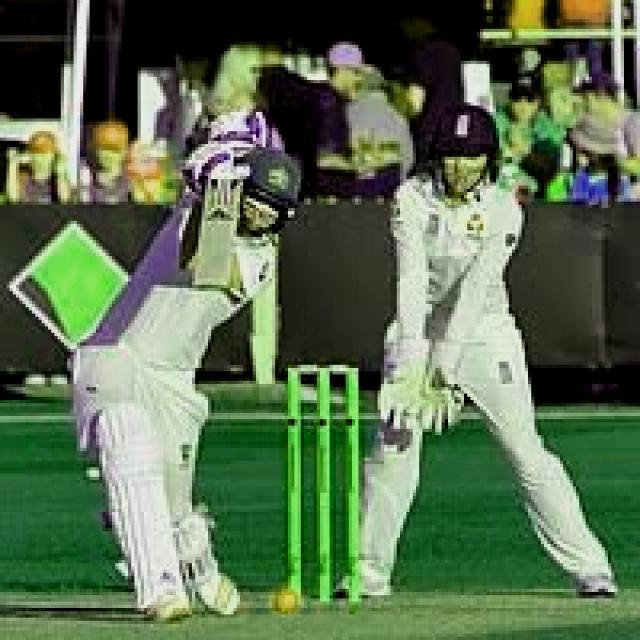bat: (189, 168, 247, 288)
toe: (185, 273, 230, 295)
